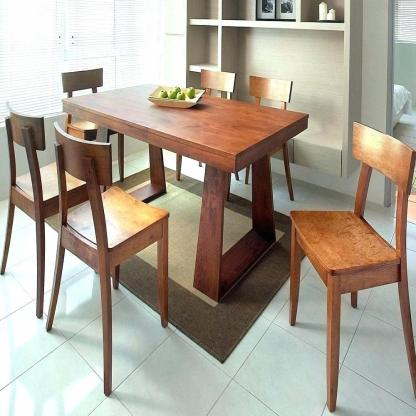Carpet: (148, 172, 290, 363)
Ceramic floor: (0, 247, 327, 416)
Dining Table: (0, 67, 416, 416)
